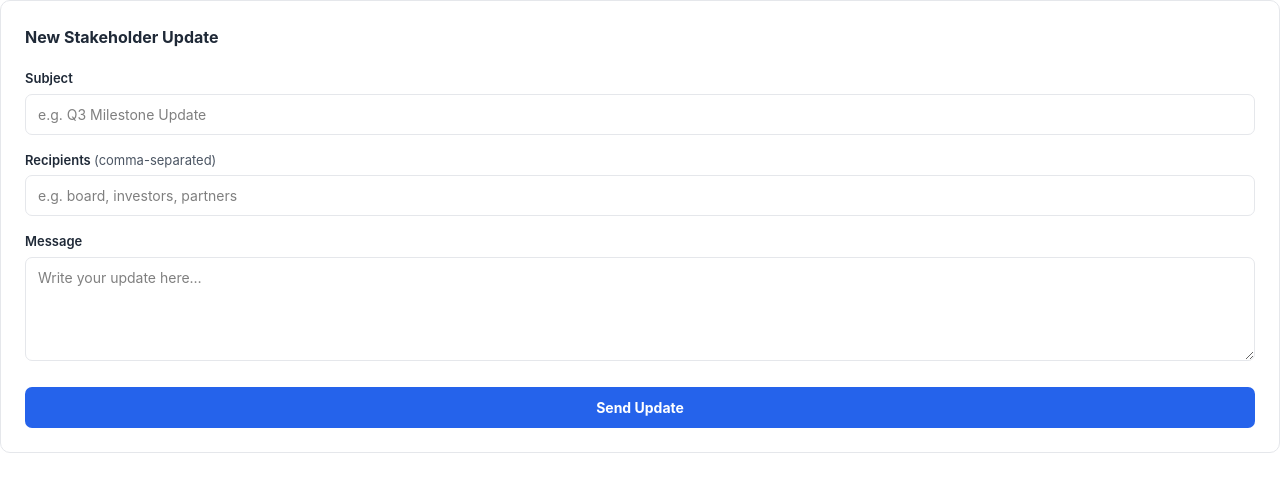
Test case: Compose — input validation › shows a subject error when the subject field is empty
Type "board" into the field with test id "input-recipients" at [640, 196], box [25,175,1255,216]
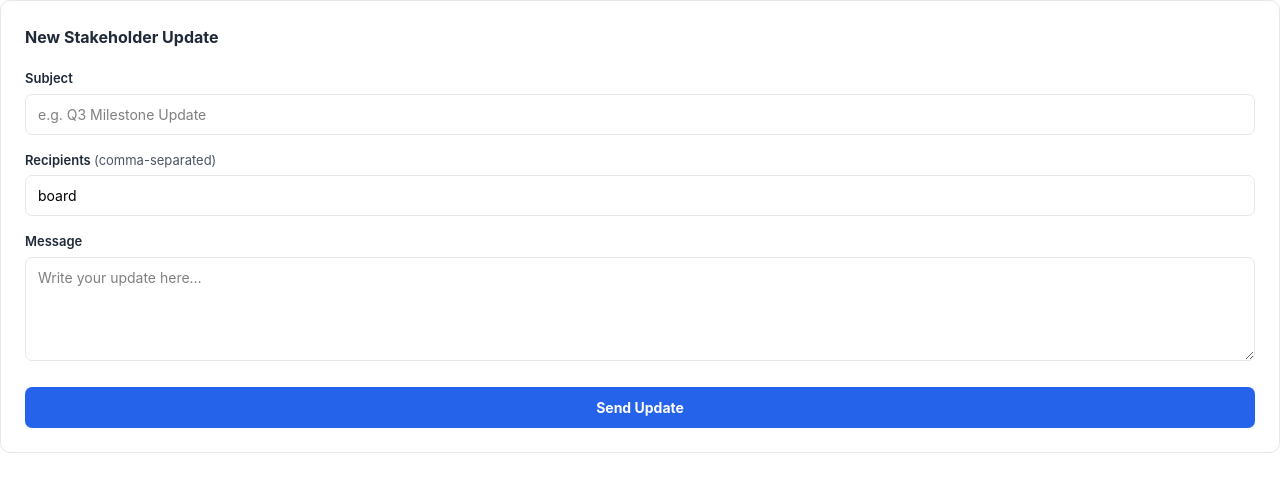
Type "hello" into the text box with test id "input-content" at [640, 308], box [25,256,1255,360]
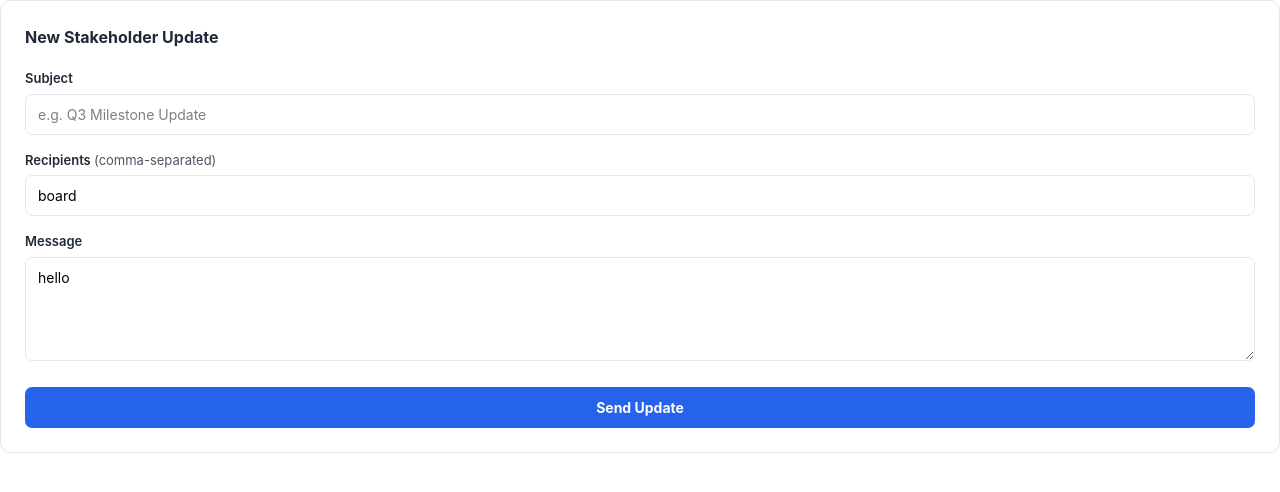
Click the button with test id "btn-send" at [640, 407], box [25,386,1255,428]
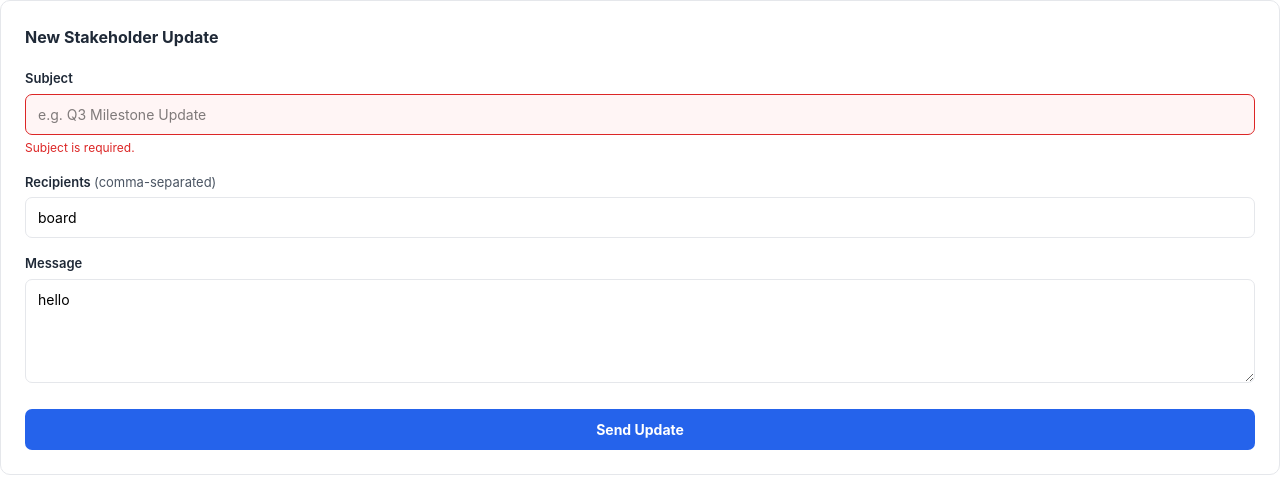
Now the text "Subject is required." is shown, box [25,140,135,154]
